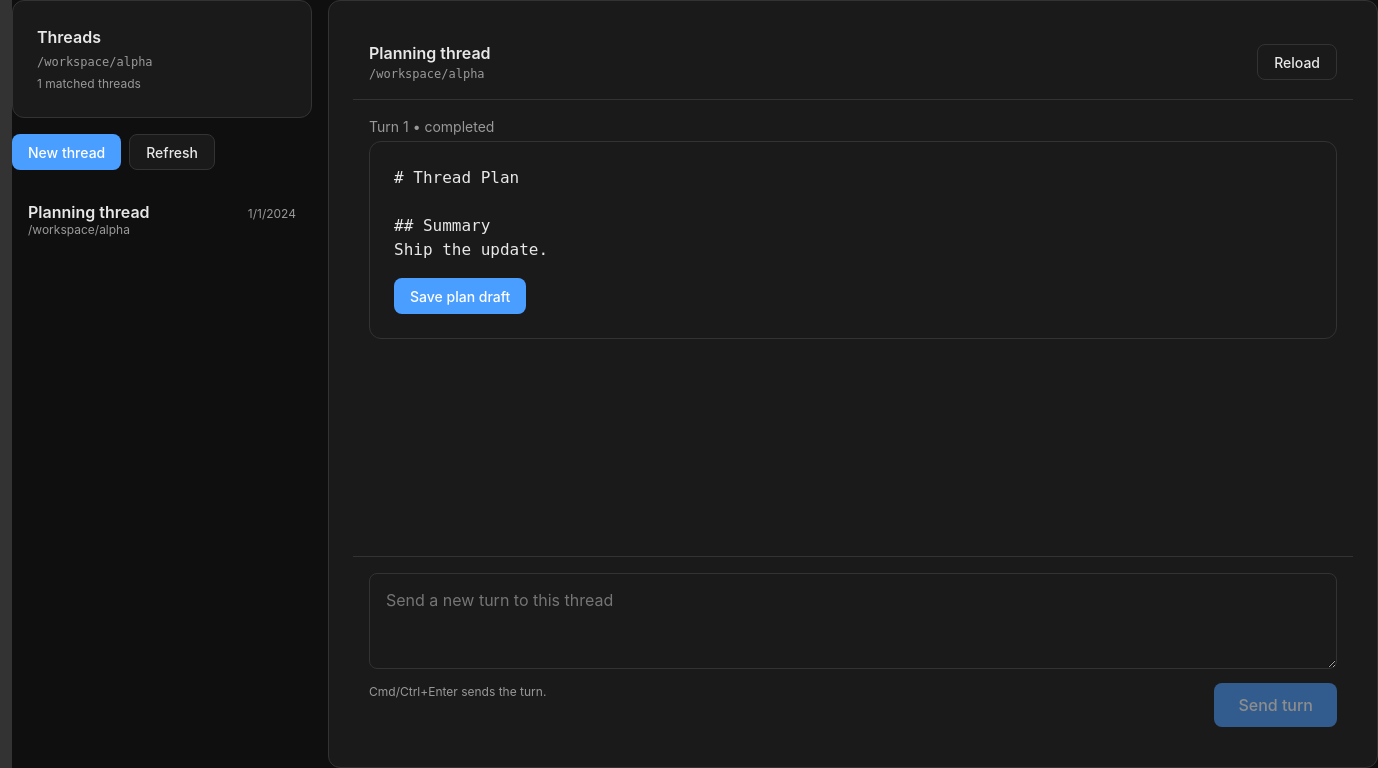
Test: PlanPanel and ThreadPanel interactions › shows an in-progress turn immediately and updates from polling once it completes
The width and height of the screenshot is (1378, 768).
Expected: the text "Planning thread" below "matched threads" is shown, x1=28 y1=202 x2=150 y2=222
Type "Please continue the plan" into the text box with placeholder "Send a new turn to this thread".
click(853, 621); type("Please continue the plan")  # box x1=369 y1=573 x2=1337 y2=669
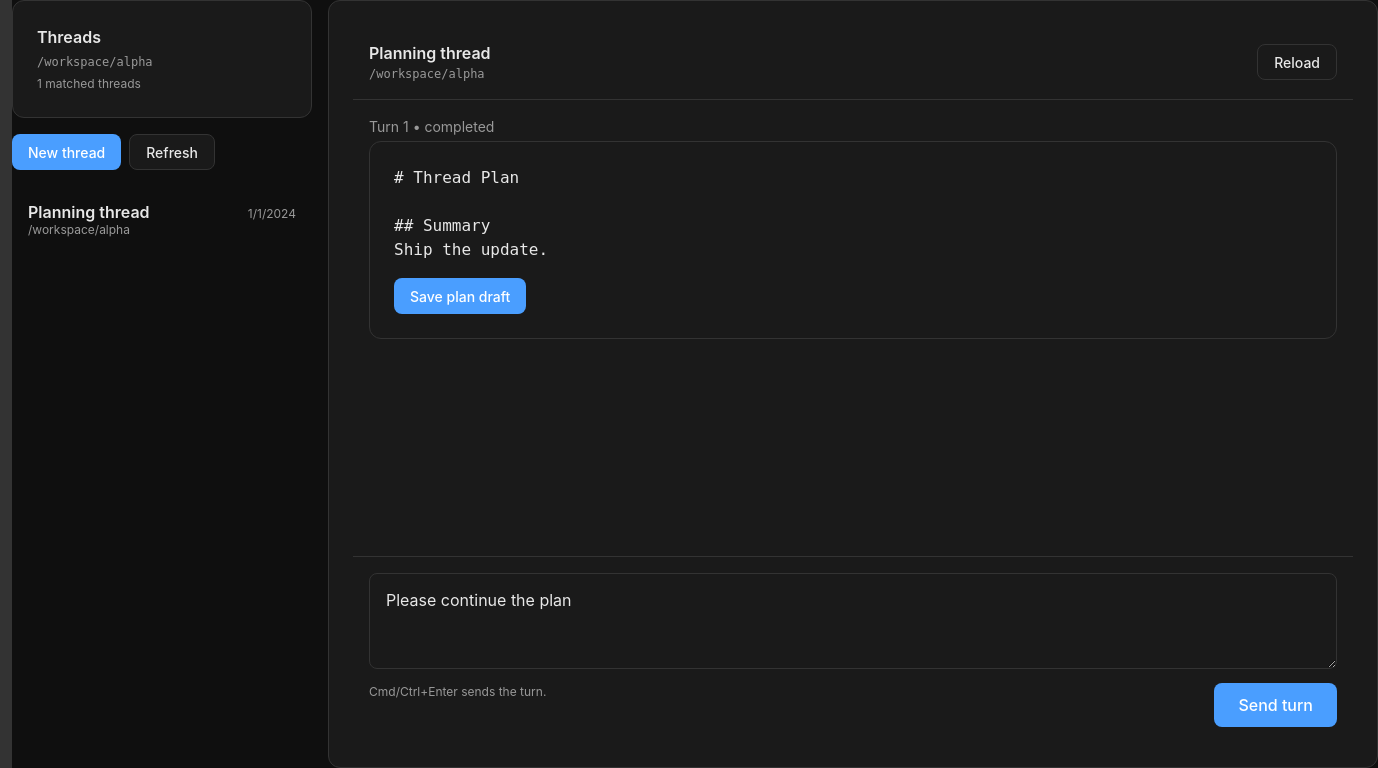
Click the button "Send turn".
click(1276, 705)  # box x1=1214 y1=683 x2=1337 y2=727
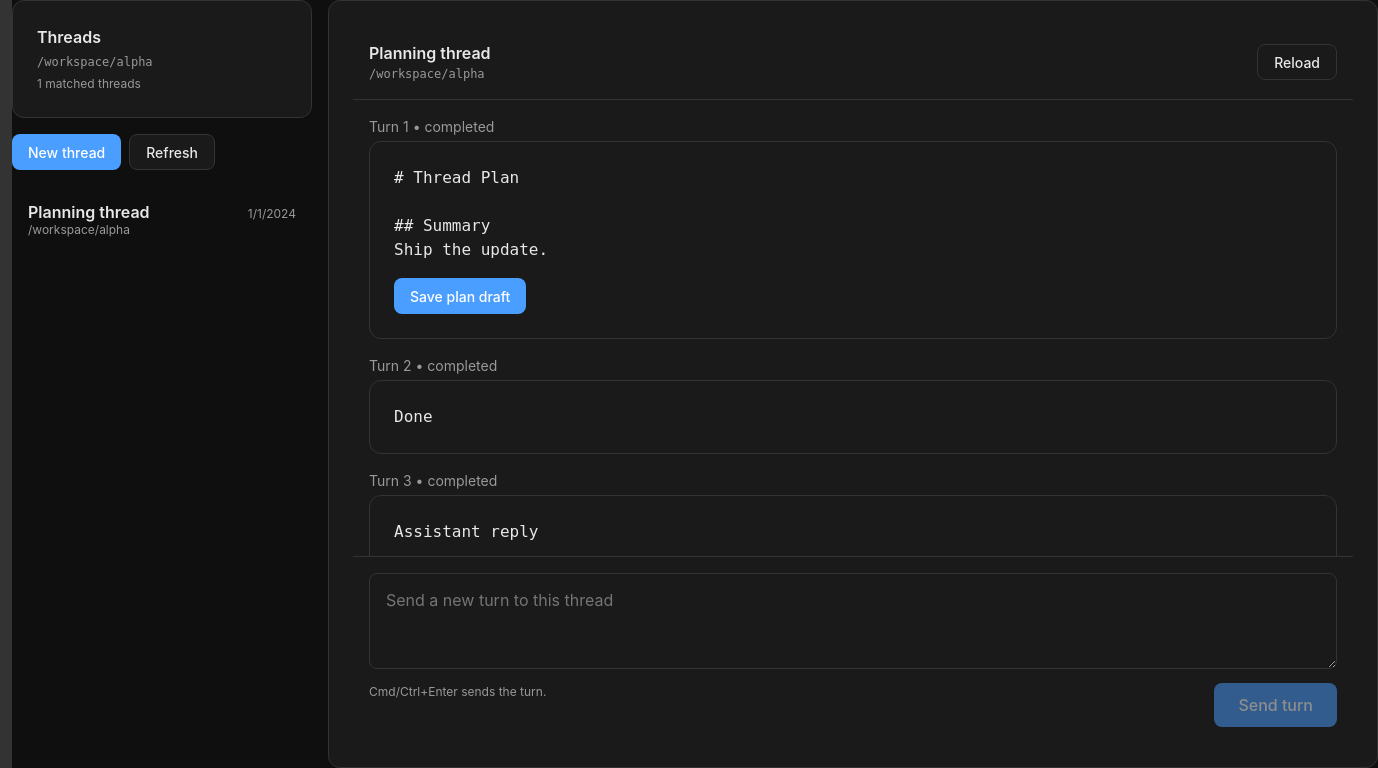
Now the text "Working on it" is shown, box x1=394 y1=407 x2=432 y2=426
Now the text "Turn 2 • completed" is shown, box x1=369 y1=357 x2=497 y2=374
Now the text "Assistant reply" is shown, box x1=394 y1=522 x2=538 y2=541
